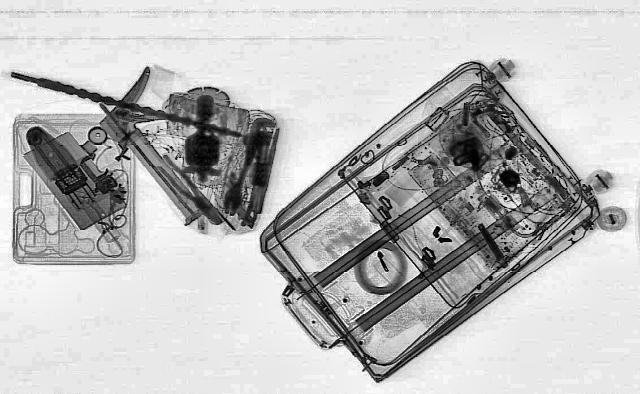Wrench: (218, 117, 268, 215)
